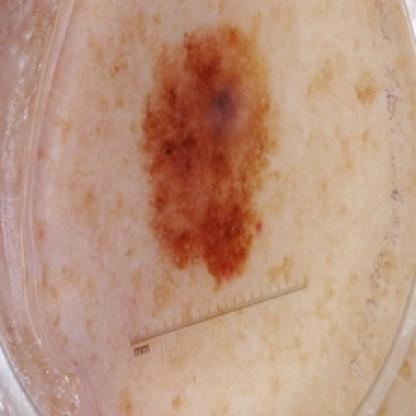Skin_Cancer-Malignant: (139, 28, 280, 294)
